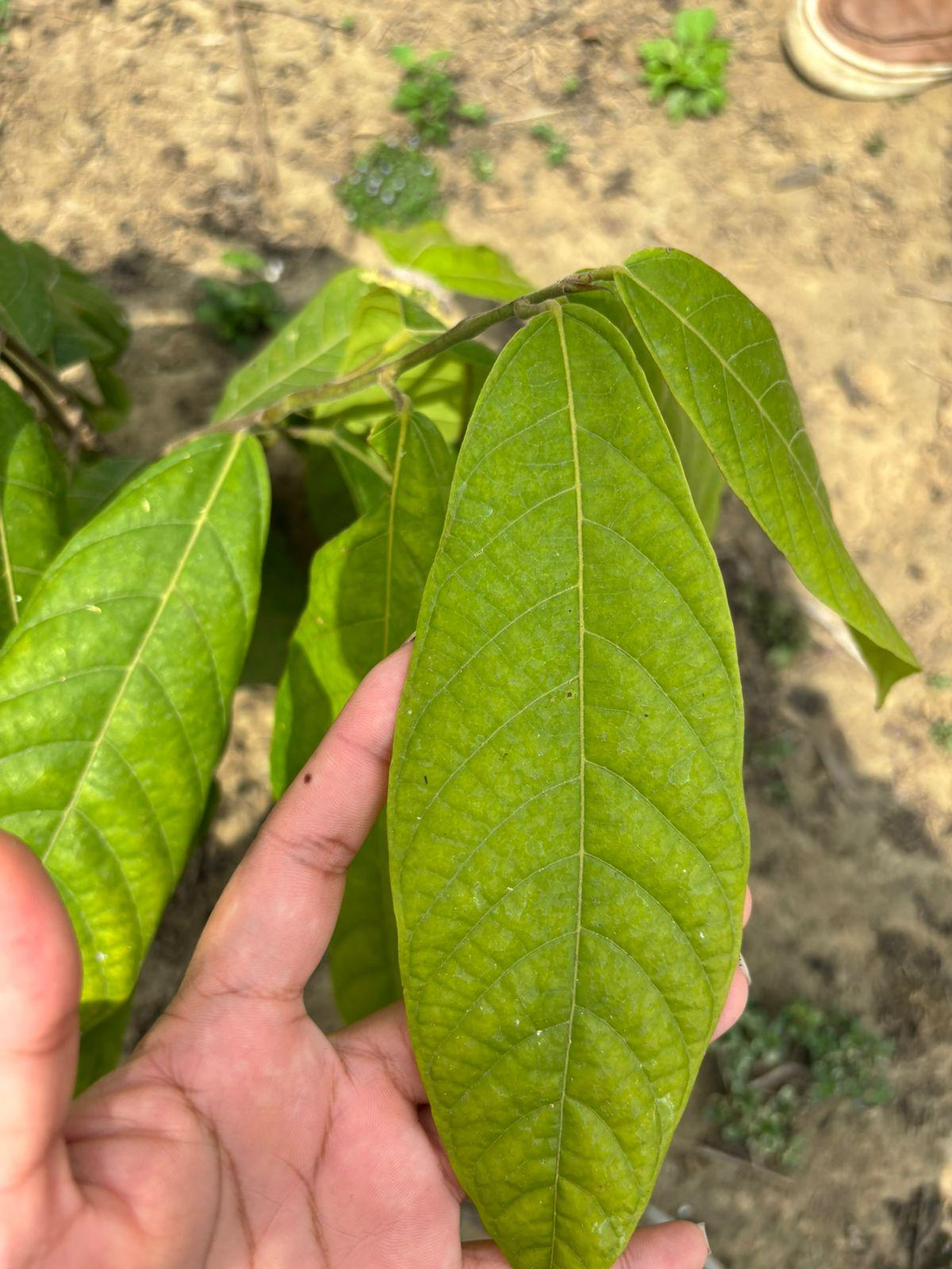Nitrogeno: (388, 303, 749, 1268)
